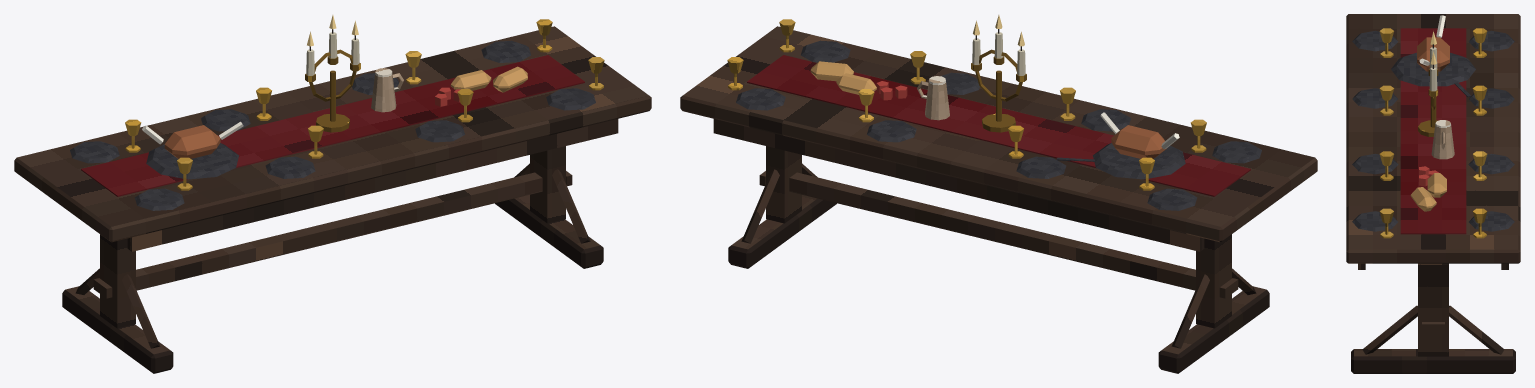
Rendered from feast_table.obj.
3 renders of one model, left to right at view 1: azimuth 30°, elevation 25°; view 2: azimuth 150°, elevation 25°; view 3: azimuth 270°, elevation 25°, orthographic. The views are drawn at different scales.
Parts seen in each view (by area): view 1: feast_table; view 2: feast_table; view 3: feast_table.
Part boxes in pixels (left/top/right/bottom): feast_table: left=14, top=15, right=651, bottom=373; feast_table: left=680, top=15, right=1317, bottom=373; feast_table: left=1346, top=14, right=1520, bottom=373.
Size of the model in its own units: 2.9 by 1.39 by 0.9.
